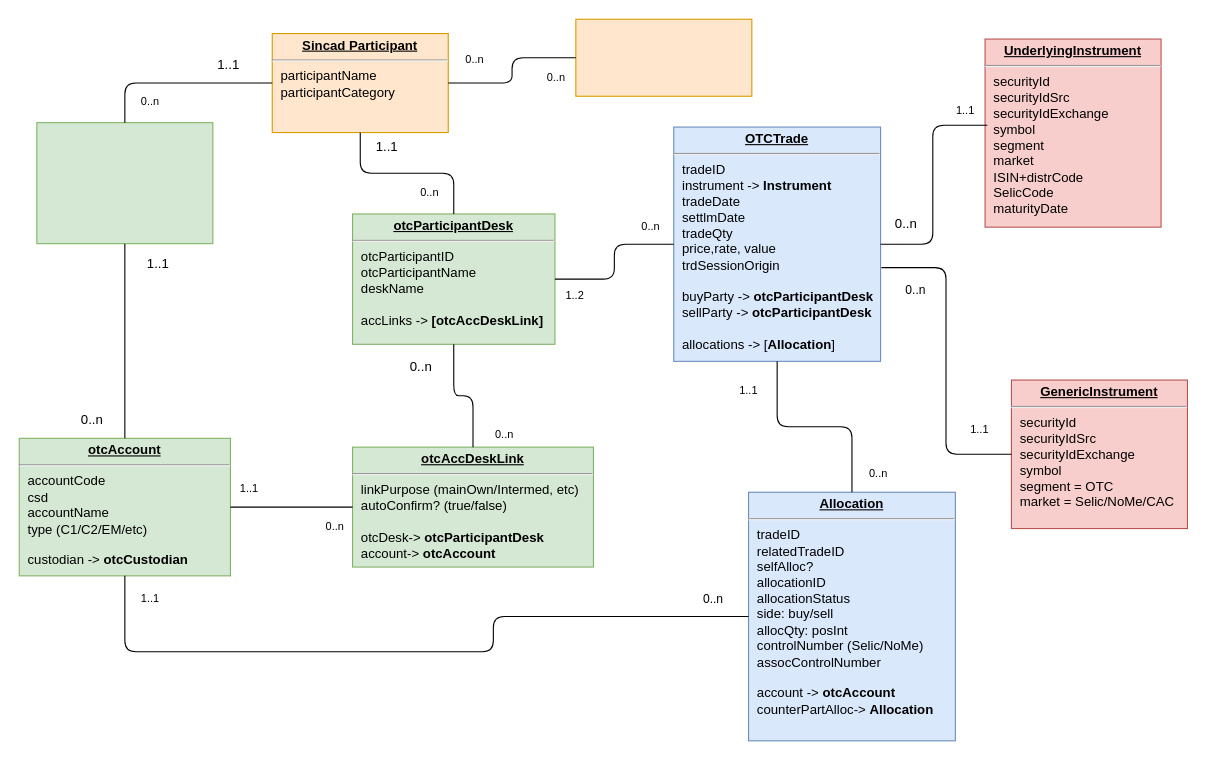
Image size: 1207x760. Some labels were removed from this diagram. The box of each missing label's shape, as (x1, y1, x2, y2) in pixels:
cCran user username pwd: (575, 18, 752, 96)
otcCustodian otcParticipantID otcParticipantName accounts -> [ otcAccount ]: (36, 122, 213, 244)
